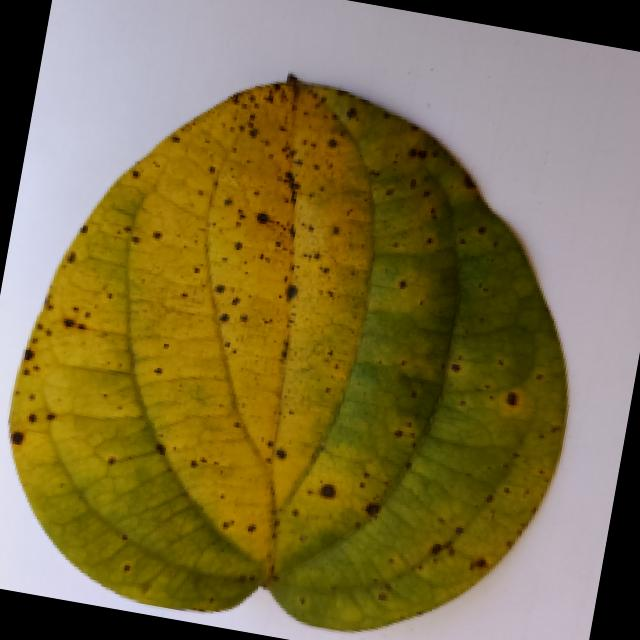slow-decline: (0, 29, 613, 640)
